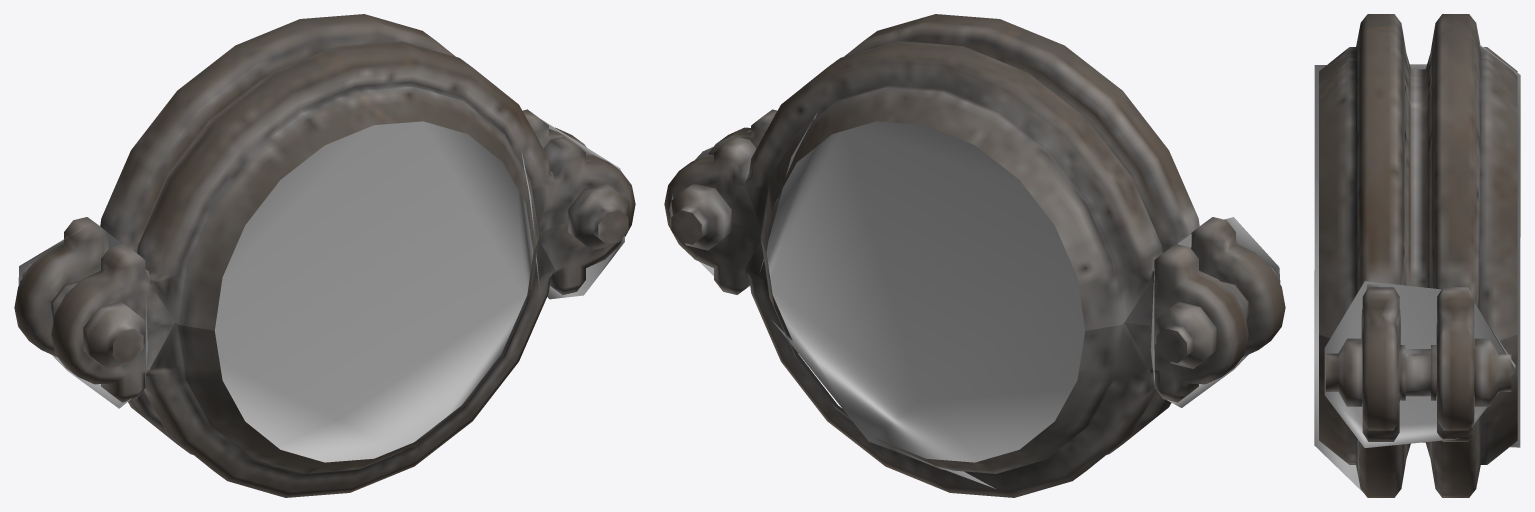
Rendered from SM_Pipe_Joint.gltf.
3 views of the same model, side by side, from view 1: azimuth 30°, elevation 25°; view 2: azimuth 150°, elevation 25°; view 3: azimuth 270°, elevation 25° (orthographic).
Parts seen in each view (by area): view 1: SM_Pipe_Joint_LOD0, SM_Pipe_Joint_ConvexHulls; view 2: SM_Pipe_Joint_LOD0, SM_Pipe_Joint_ConvexHulls; view 3: SM_Pipe_Joint_LOD0, SM_Pipe_Joint_ConvexHulls.
Part boxes in pixels (box(x1,y1,x2,y2)): SM_Pipe_Joint_LOD0: box(14, 14, 635, 497); SM_Pipe_Joint_ConvexHulls: box(18, 119, 624, 462); SM_Pipe_Joint_LOD0: box(664, 14, 1285, 497); SM_Pipe_Joint_ConvexHulls: box(669, 112, 1280, 488); SM_Pipe_Joint_LOD0: box(1319, 14, 1517, 497); SM_Pipe_Joint_ConvexHulls: box(1314, 45, 1520, 492).
Size of what is drawn, in the model's own units: 0.2008 by 0.1461 by 0.0617.
